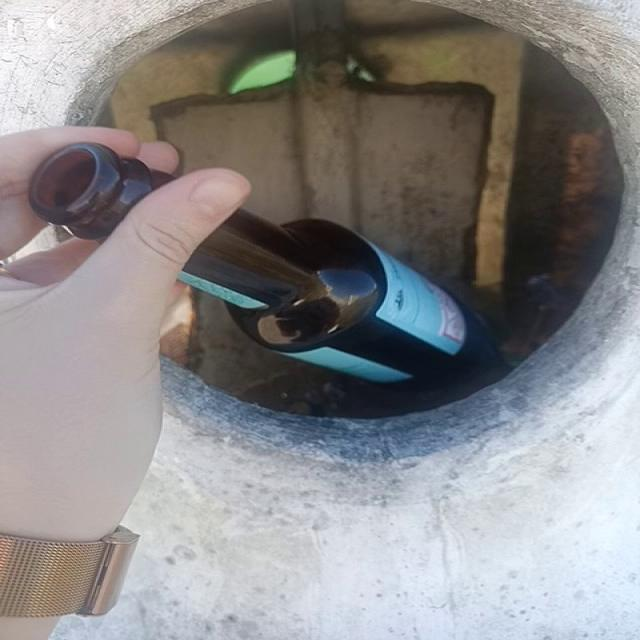glass: (179, 210, 499, 384), (28, 143, 172, 240)
